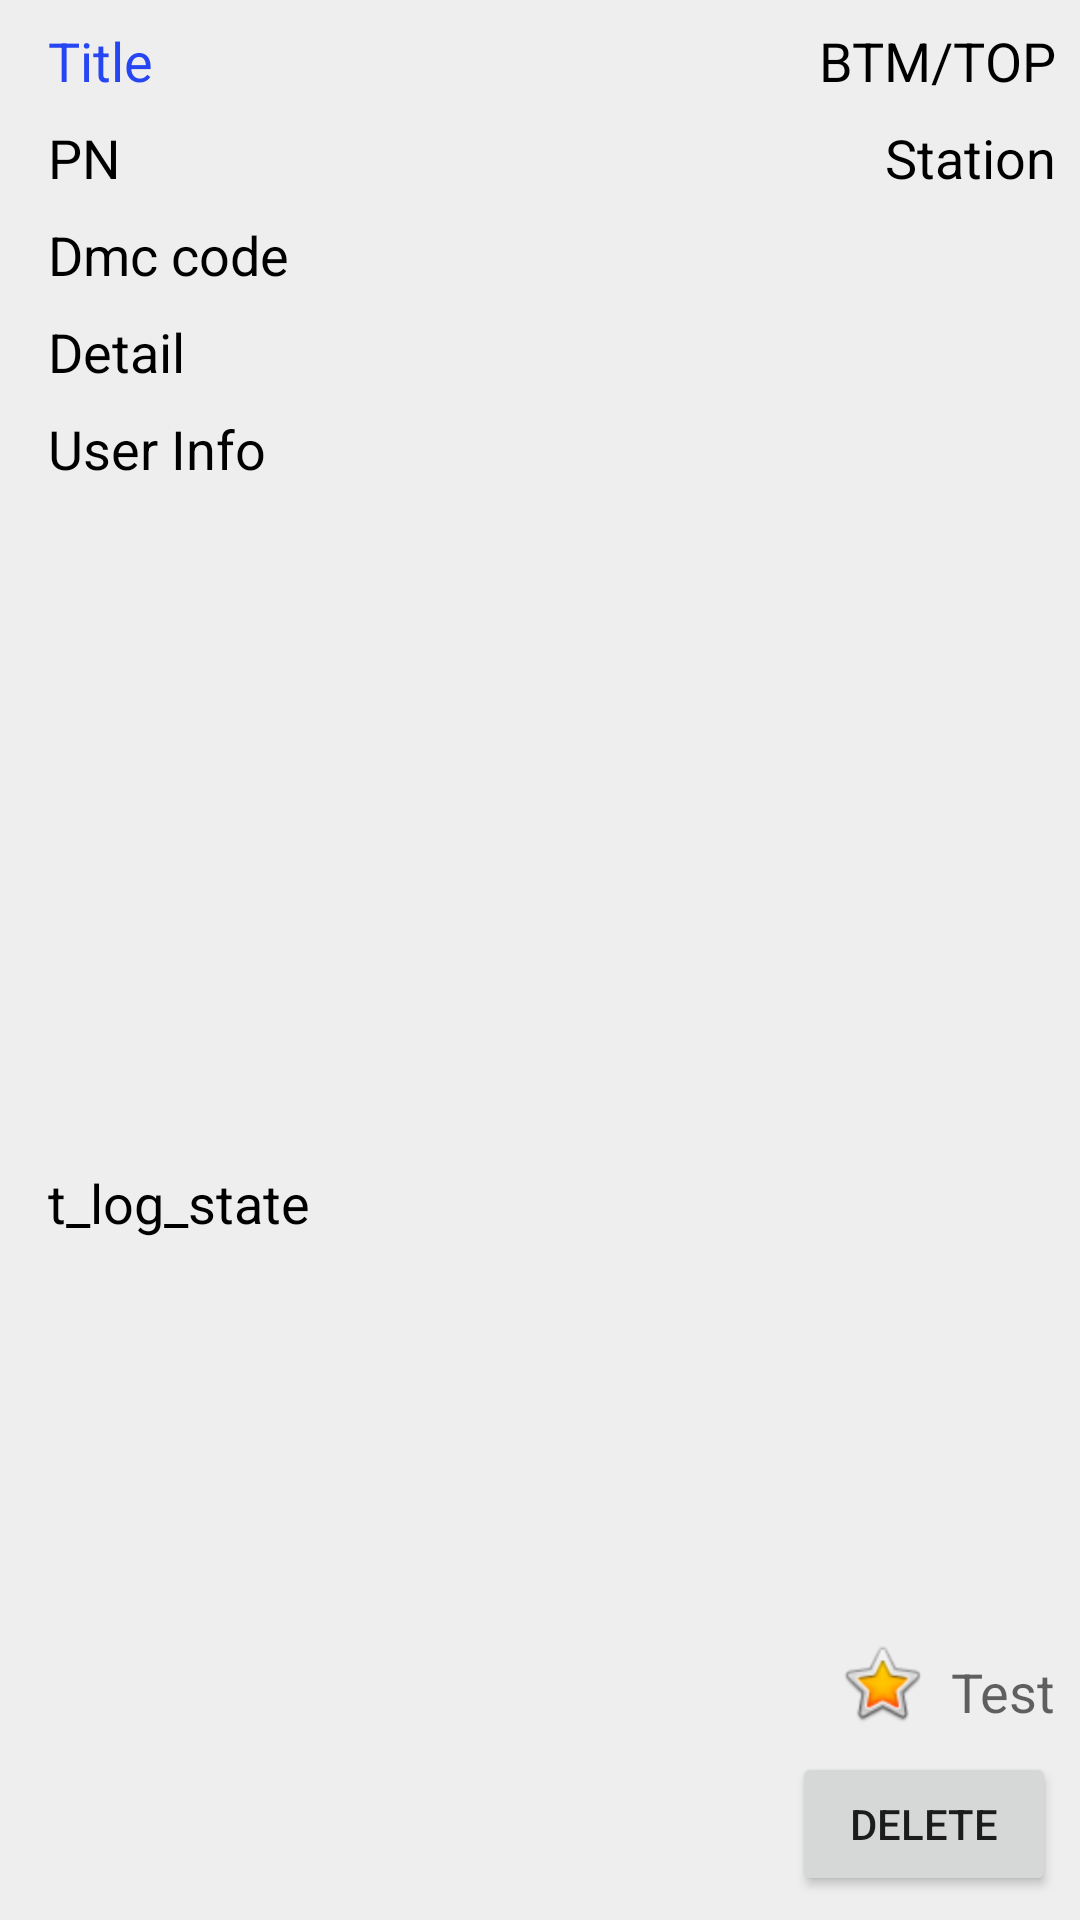

Screen size 1080px×1920px. Icon name, then its box in pixels as (x1, y1, x2, y2):
star on: (845, 1647, 920, 1720)
